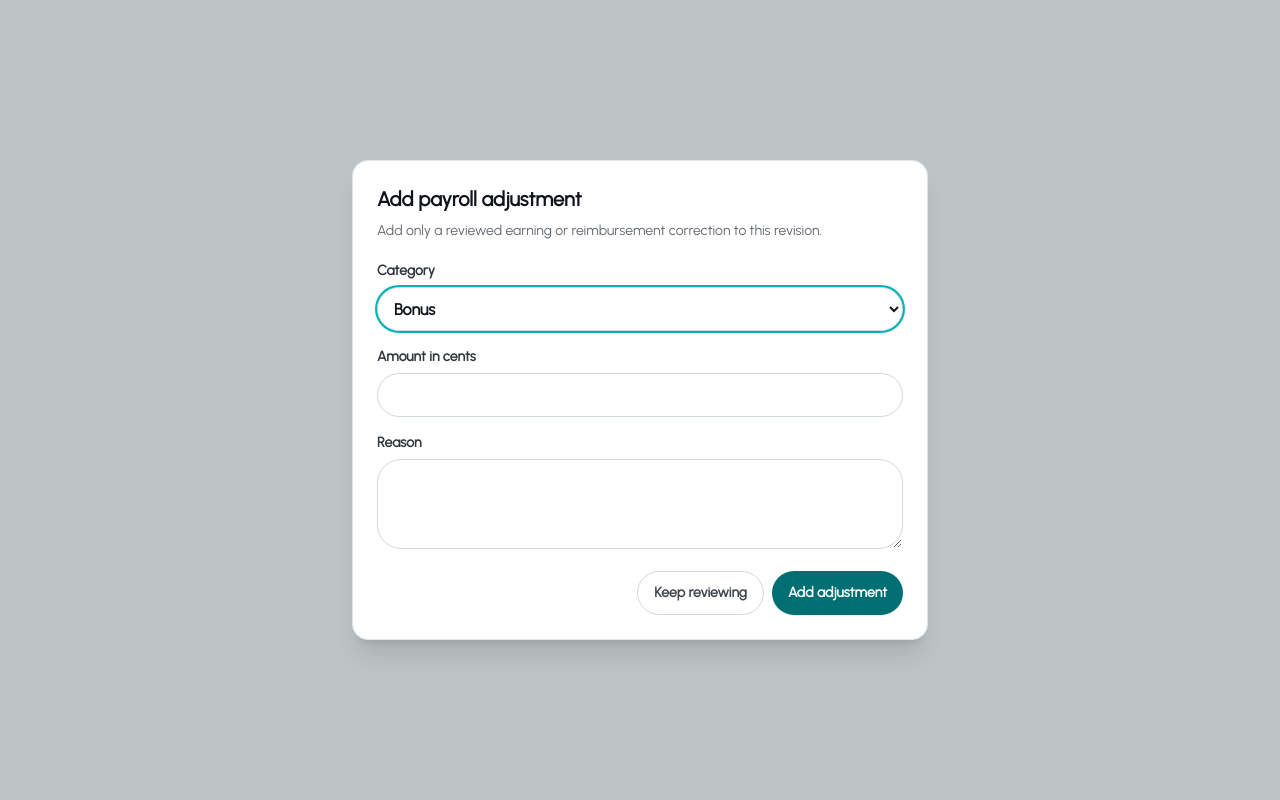
Test: PayrollAdjustmentDialog › rejects an invalid category/calculation pair and focuses the first error
Select "Bonus" in the dropdown labelled "Category" at [640, 309], box x1=377 y1=287 x2=903 y2=331
Click the button "Add adjustment".
click(838, 593)  # box x1=772 y1=571 x2=903 y2=615
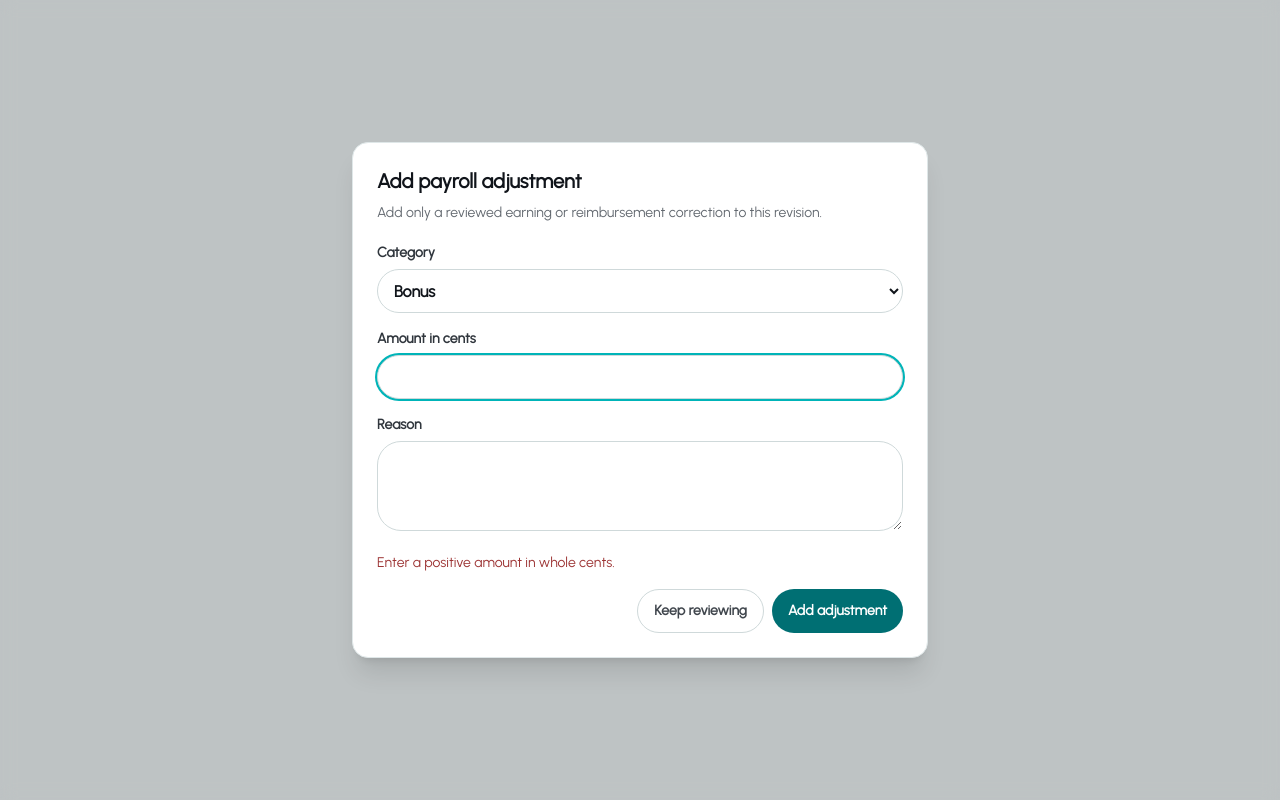
Expected: the message shows "positive amount", x1=377 y1=554 x2=615 y2=571
